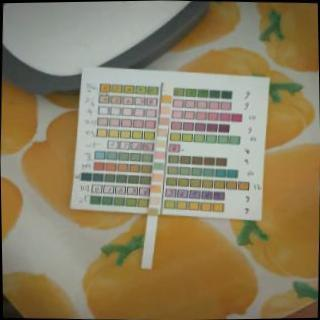mark: (155, 150, 164, 160), (150, 185, 161, 193), (151, 174, 162, 182), (160, 107, 171, 115), (148, 207, 158, 215), (159, 118, 169, 126), (163, 84, 173, 92), (158, 128, 167, 136), (162, 95, 171, 103), (154, 163, 164, 170), (156, 140, 166, 147), (150, 197, 159, 204)
